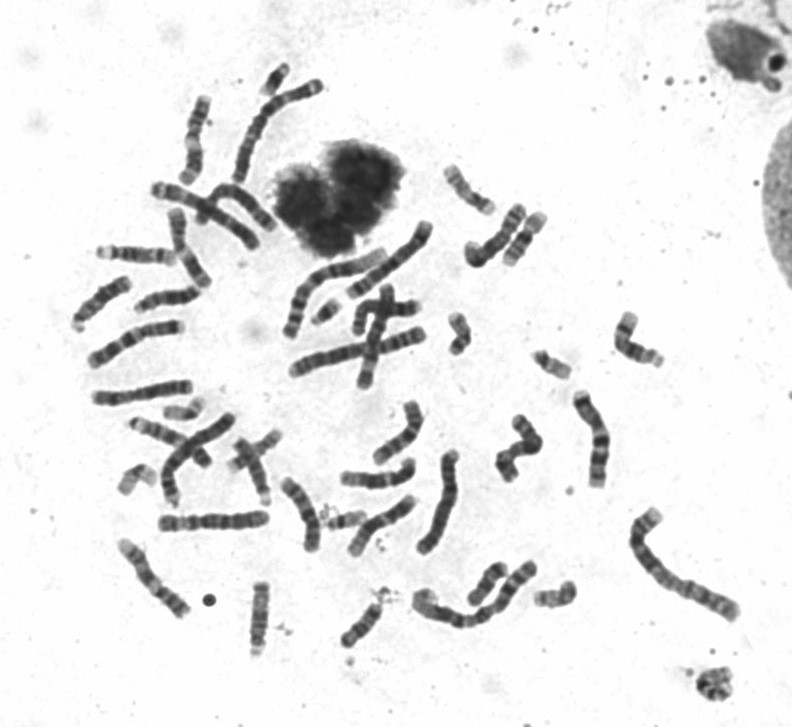chromosomes: (627, 507, 746, 629), (268, 244, 391, 345), (230, 79, 331, 186), (410, 556, 544, 631), (280, 324, 431, 383), (147, 180, 265, 255), (345, 217, 440, 303), (161, 412, 243, 511), (112, 537, 192, 622), (411, 448, 466, 559), (84, 318, 189, 372), (352, 279, 400, 395), (121, 416, 217, 471), (345, 492, 421, 561), (460, 202, 532, 271), (193, 183, 290, 234), (493, 409, 548, 488), (70, 274, 141, 335), (367, 398, 428, 469), (571, 390, 613, 492), (166, 202, 213, 293), (174, 94, 216, 193), (278, 472, 326, 556), (83, 376, 197, 409), (437, 162, 498, 221), (220, 425, 287, 478), (612, 308, 668, 370), (347, 297, 424, 342), (499, 208, 553, 270), (232, 438, 276, 508), (338, 456, 422, 492), (334, 596, 388, 651), (156, 511, 274, 536), (136, 284, 209, 315), (87, 246, 182, 269), (464, 560, 510, 606), (696, 664, 745, 707), (248, 580, 273, 660), (446, 306, 476, 363), (116, 463, 160, 498), (159, 394, 210, 422), (532, 350, 576, 382), (255, 61, 294, 96), (534, 580, 581, 608), (305, 296, 344, 329), (326, 508, 375, 534)
